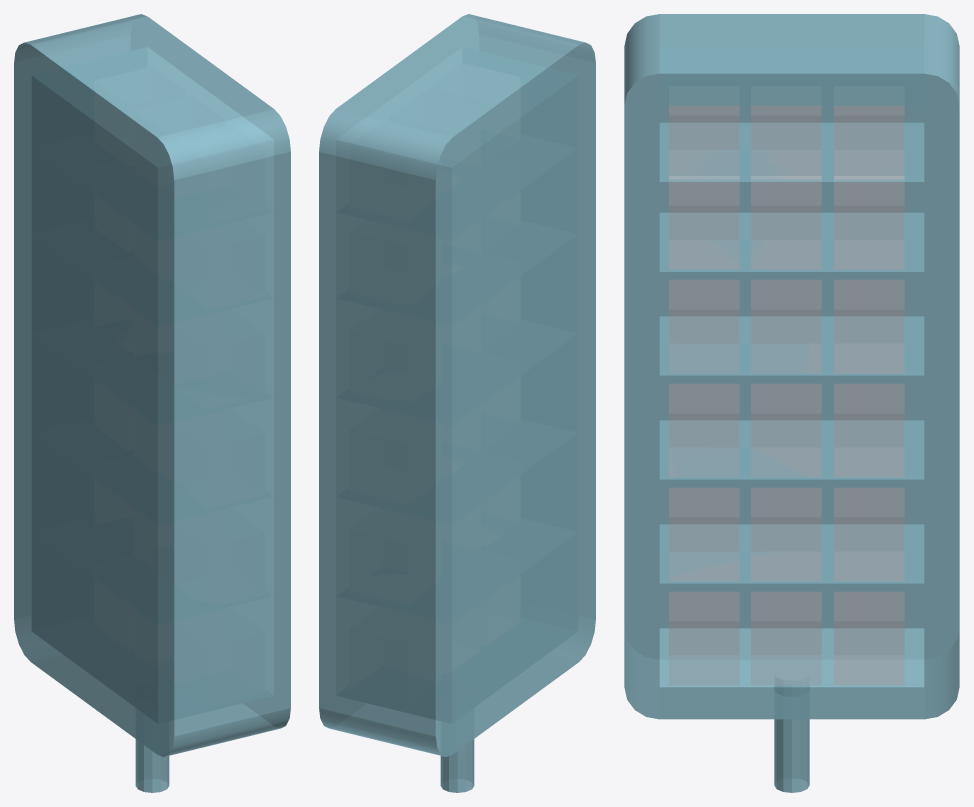
The model's file is shelf.fbx.
3 views of the same model, side by side, from view 1: azimuth 30°, elevation 25°; view 2: azimuth 150°, elevation 25°; view 3: azimuth 270°, elevation 25° (orthographic). The views are drawn at different scales.
Parts seen in each view (by area): view 1: Stellaj5; view 2: Stellaj5; view 3: Stellaj5.
Boxes of the visible parts, left/top/right/bottom form: Stellaj5: left=14, top=14, right=290, bottom=792; Stellaj5: left=319, top=14, right=595, bottom=792; Stellaj5: left=624, top=14, right=959, bottom=792.
Bounding box in the file's own units: 40 × 232 × 95.
